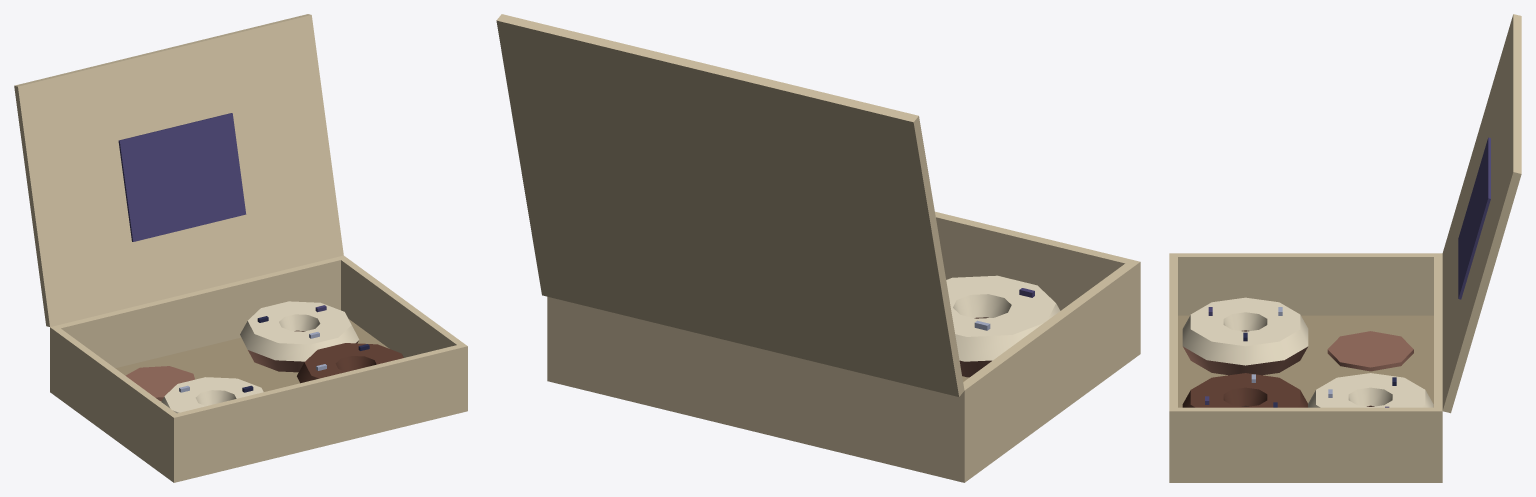
The model's file is Gus_DonutBox.fbx.
The picture shows the model from 3 angles, left to right: view 1: azimuth 30°, elevation 25°; view 2: azimuth 150°, elevation 25°; view 3: azimuth 270°, elevation 25°; orthographic projection. The views are drawn at different scales.
Visible parts, largest first — view 1: Gus_DonutBox; view 2: Gus_DonutBox; view 3: Gus_DonutBox.
Boxes of the visible parts, left/top/right/bottom form: Gus_DonutBox: left=14, top=14, right=467, bottom=482; Gus_DonutBox: left=496, top=14, right=1140, bottom=482; Gus_DonutBox: left=1169, top=14, right=1521, bottom=482.
Bounding box in the file's own units: 2.6 × 2.39 × 2.45.
Materials: 1 (1 with a texture image).
